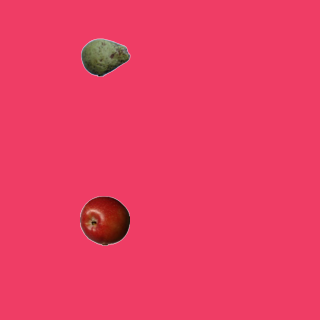Apple Braeburn: (79, 195, 129, 245)
Pear Stone: (80, 32, 130, 82)
